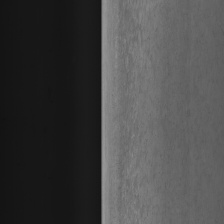silk_spot: (114, 10, 157, 206)
